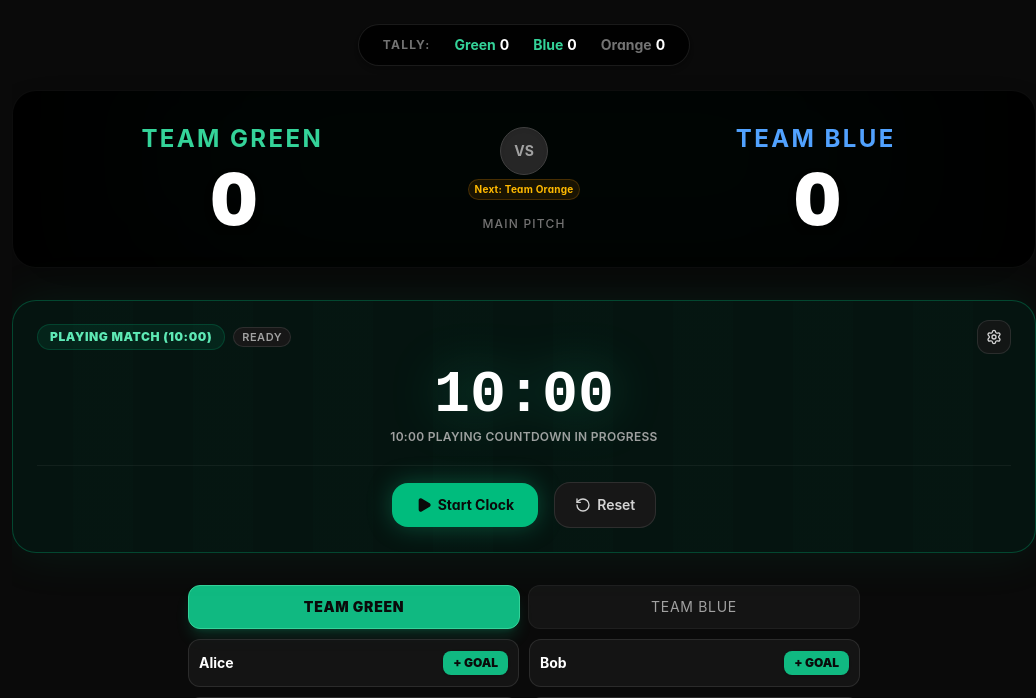
Test: ActiveMatchControlCenter Integration Suite › 2. Team Switcher & 2-Column Grid › toggles active team roster immediately on tab click with green and blue color identities
This screenshot has width=1036, height=698.
Expected: the button with test id "player-card-p1" is shown, [188, 639, 519, 687]
Expected: the button with test id "player-card-p2" is shown, [529, 639, 860, 687]
# Click Team B tab
Click the tab "Team Blue" at (694, 607), box [528, 585, 860, 629]
(page scrolled)
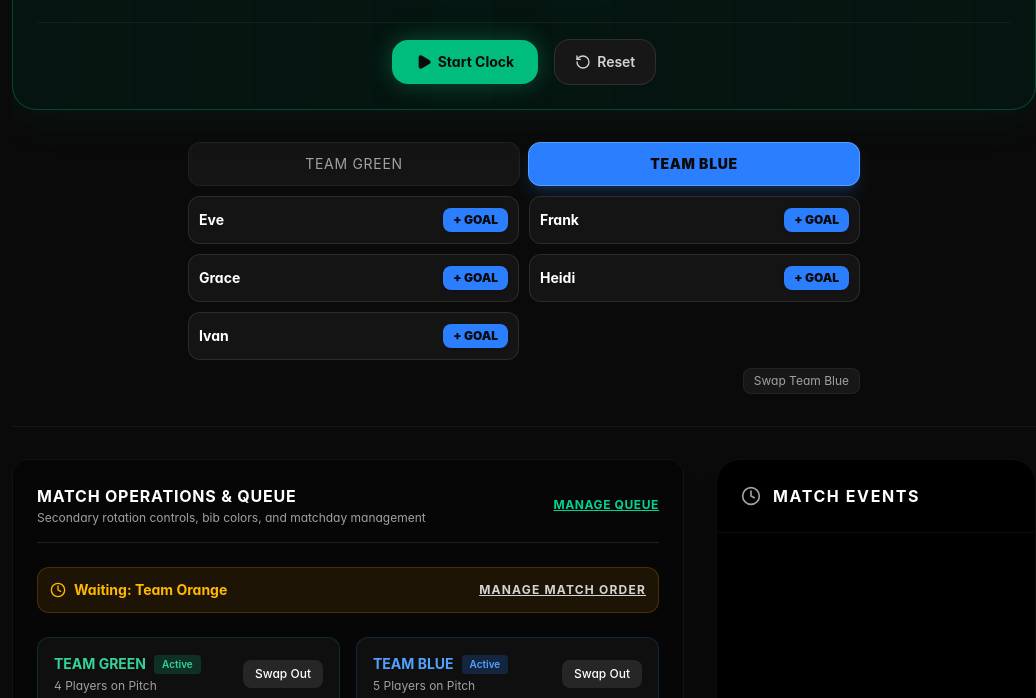
Expected: the button with test id "player-card-p5" is shown, [188, 196, 519, 244]
Expected: the button with test id "player-card-p6" is shown, [529, 196, 860, 244]
Expected: the button with test id "player-card-p7" is shown, [188, 254, 519, 302]
